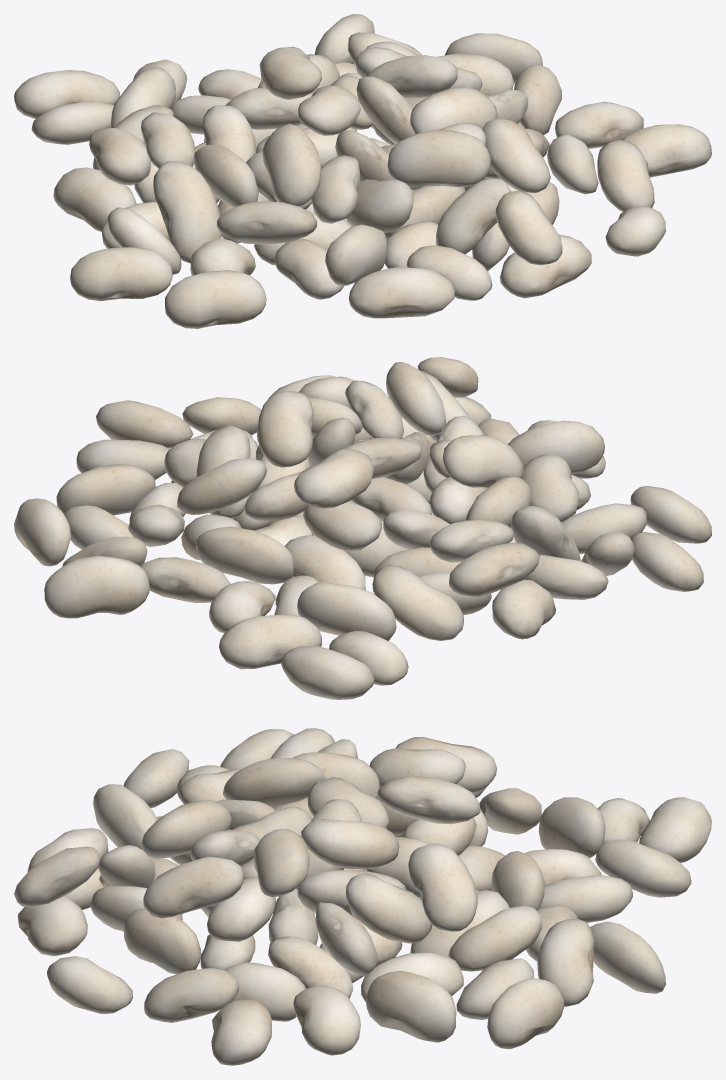
The model's file is Bean.fbx.
3 views of the same model, one above another, from view 1: azimuth 30°, elevation 25°; view 2: azimuth 150°, elevation 25°; view 3: azimuth 270°, elevation 25° (orthographic). The views are drawn at different scales.
Parts seen in each view (by area): view 1: Bean_065; view 2: Bean_065; view 3: Bean_065.
Part boxes in pixels (<box>): Bean_065: <box>14,14,711,328</box>; Bean_065: <box>14,357,711,699</box>; Bean_065: <box>14,728,711,1065</box>.
Size of the model in its own units: 18.25 by 3.64 by 16.88.
